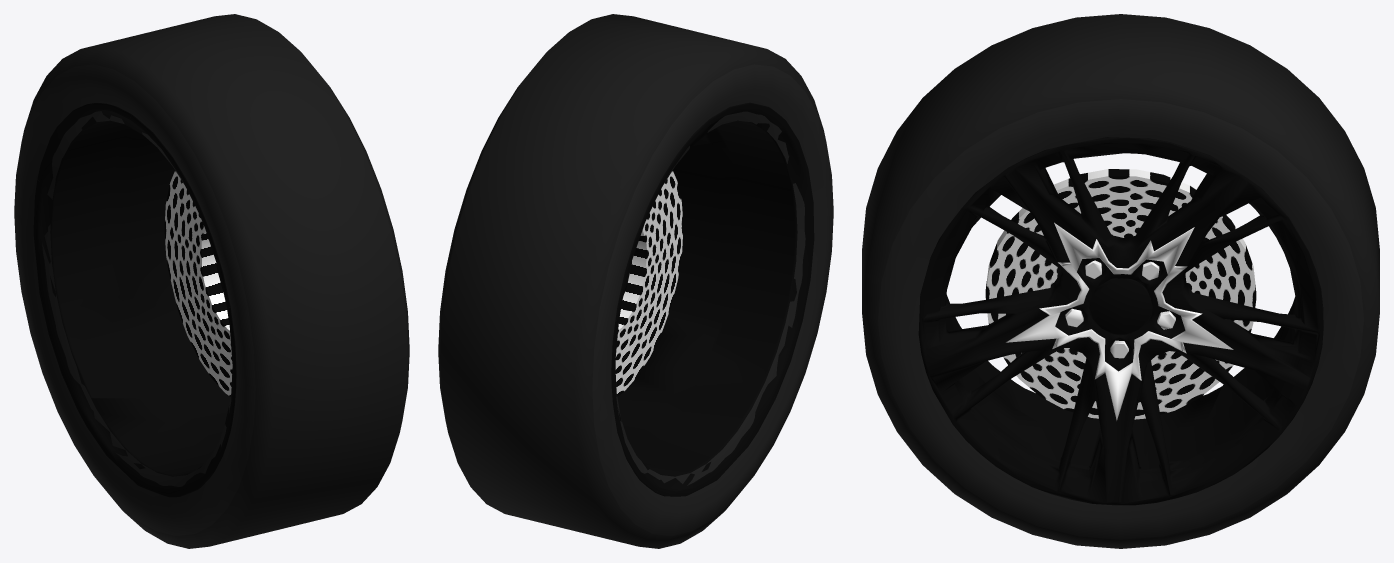
3 renders of one model, left to right at view 1: azimuth 30°, elevation 25°; view 2: azimuth 150°, elevation 25°; view 3: azimuth 270°, elevation 25°, orthographic.
Visible parts, largest first — view 1: object 3, WheelRearLRim, WheelRearLBrakeDisc; view 2: object 3, WheelRearLRim, WheelRearLBrakeDisc; view 3: object 3, WheelRearLRim, WheelRearLBrakeDisc.
Part boxes in pixels (left/top/right/bottom): object 3: left=14, top=14, right=409, bottom=548; WheelRearLRim: left=33, top=103, right=236, bottom=497; WheelRearLBrakeDisc: left=164, top=170, right=232, bottom=396; object 3: left=438, top=14, right=833, bottom=548; WheelRearLRim: left=611, top=102, right=814, bottom=496; WheelRearLBrakeDisc: left=615, top=170, right=683, bottom=396; object 3: left=862, top=14, right=1379, bottom=548; WheelRearLRim: left=918, top=137, right=1323, bottom=505; WheelRearLBrakeDisc: left=985, top=169, right=1256, bottom=419.
Bounding box in the file's own units: 0.2841 × 0.768 × 0.768.
5 materials, 1 textured.
